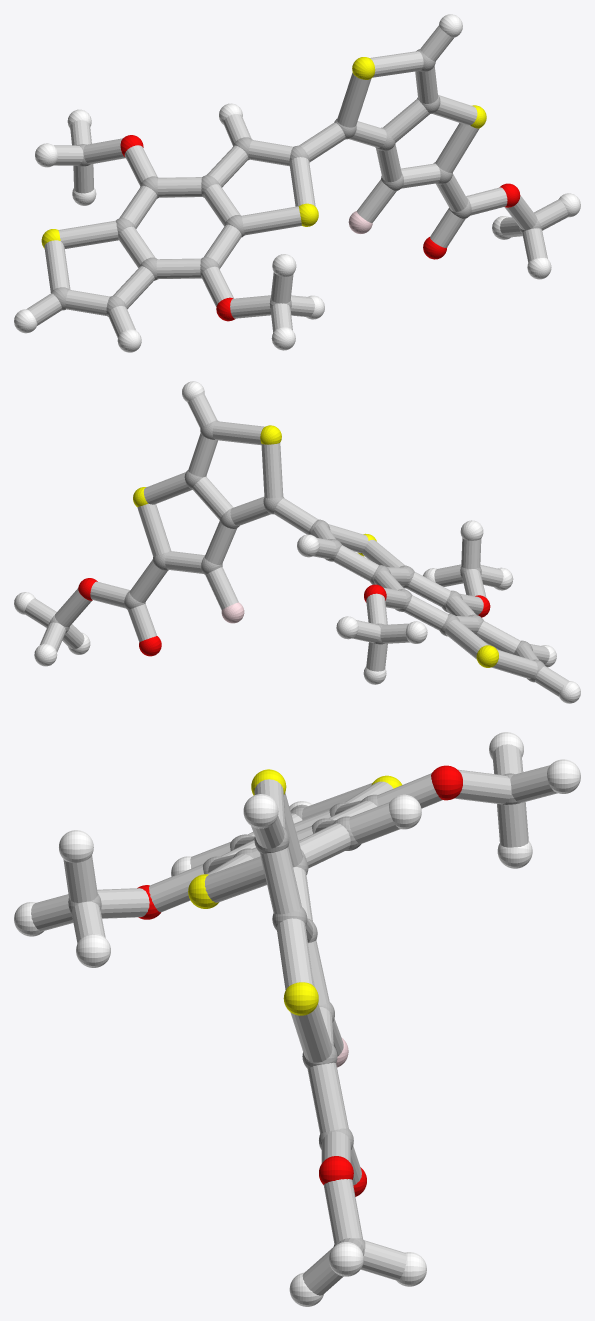
File: color.glb
3 renders of one model, top to bottom at view 1: azimuth 30°, elevation 25°; view 2: azimuth 150°, elevation 25°; view 3: azimuth 270°, elevation 25°, orthographic. The views are drawn at different scales.
Parts seen in each view (by area): view 1: grp15205, grp8689, grp1, grp7241, grp13395; view 2: grp15205, grp8689, grp1, grp7241, grp13395; view 3: grp15205, grp8689, grp1, grp7241, grp13395.
Part boxes in pixels (bbox=[...]): grp15205: bbox=[26, 25, 568, 337]; grp8689: bbox=[14, 14, 580, 352]; grp1: bbox=[51, 49, 541, 316]; grp7241: bbox=[41, 57, 486, 248]; grp13395: bbox=[120, 135, 520, 321]; grp15205: bbox=[24, 394, 568, 696]; grp8689: bbox=[14, 381, 580, 703]; grp1: bbox=[49, 420, 545, 682]; grp7241: bbox=[133, 425, 498, 667]; grp13395: bbox=[78, 578, 490, 656]; grp15205: bbox=[31, 744, 557, 1295]; grp8689: bbox=[14, 732, 580, 1306]; grp1: bbox=[68, 773, 520, 1252]; grp7241: bbox=[188, 769, 402, 1015]; grp13395: bbox=[137, 765, 462, 1196].
Bounding box in the file's own units: 16.61 × 8.23 × 9.7.
